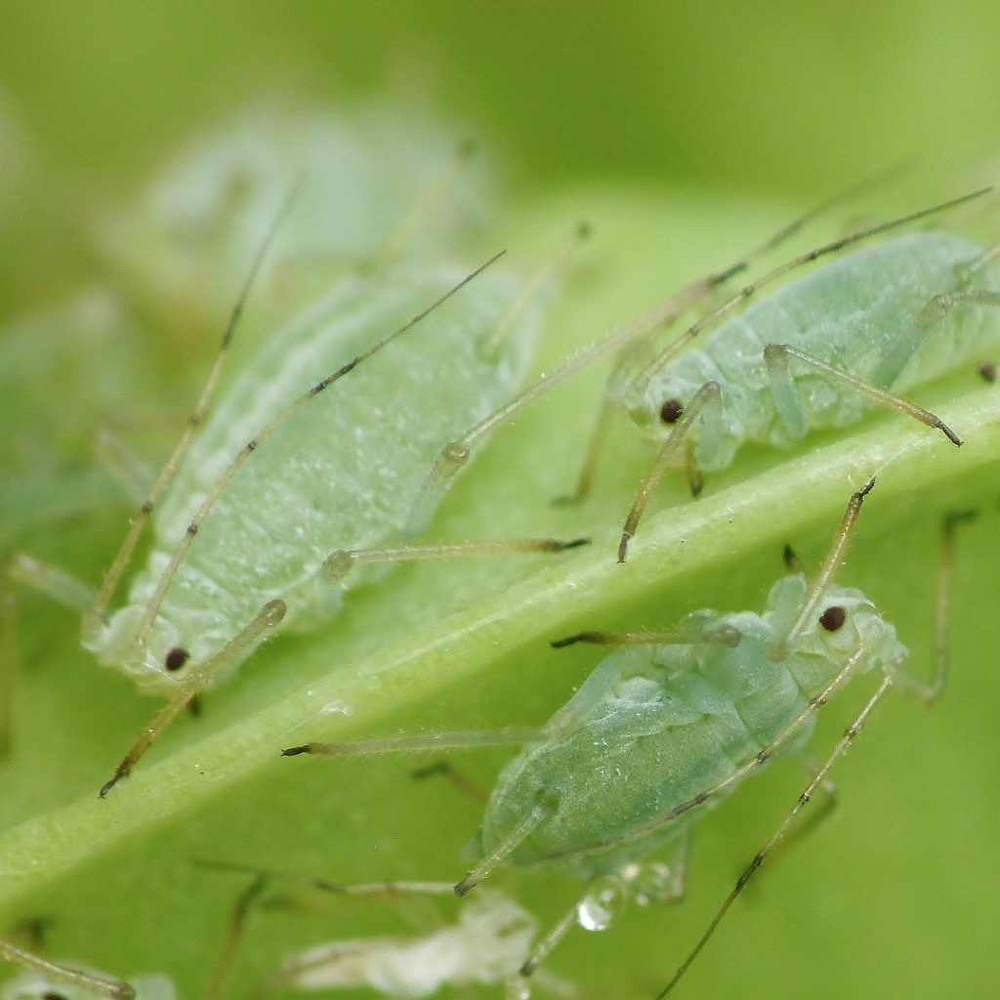Pulgon: (345, 522, 989, 961), (57, 199, 582, 731), (588, 177, 995, 542)
